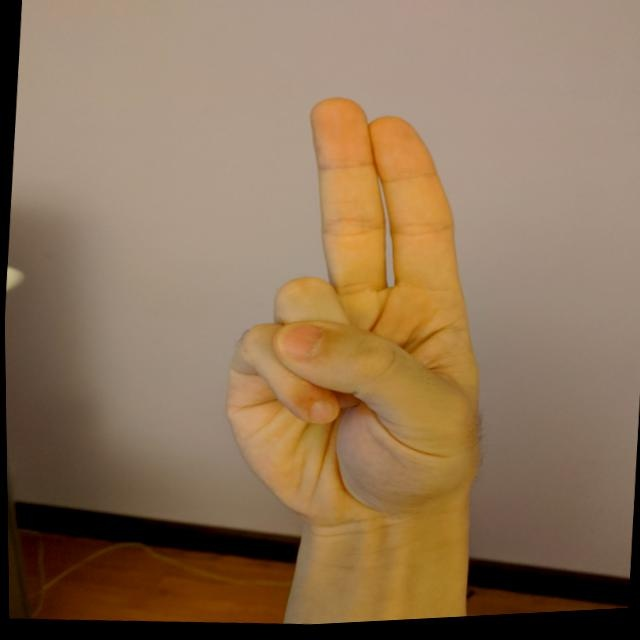U: (199, 77, 523, 545)
